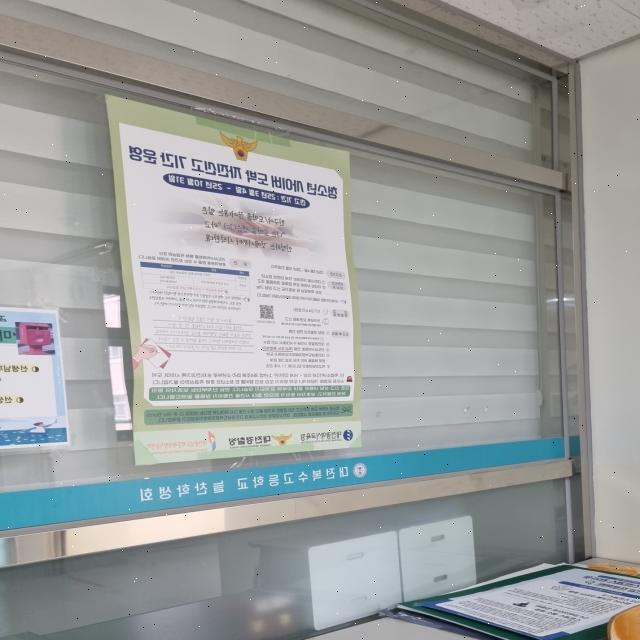logo: (351, 462, 368, 480)
